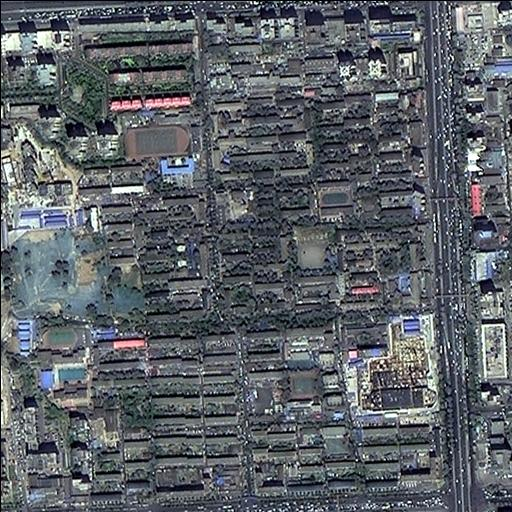school: (35, 321, 94, 411), (117, 115, 201, 177), (287, 371, 322, 421), (315, 186, 358, 217)
